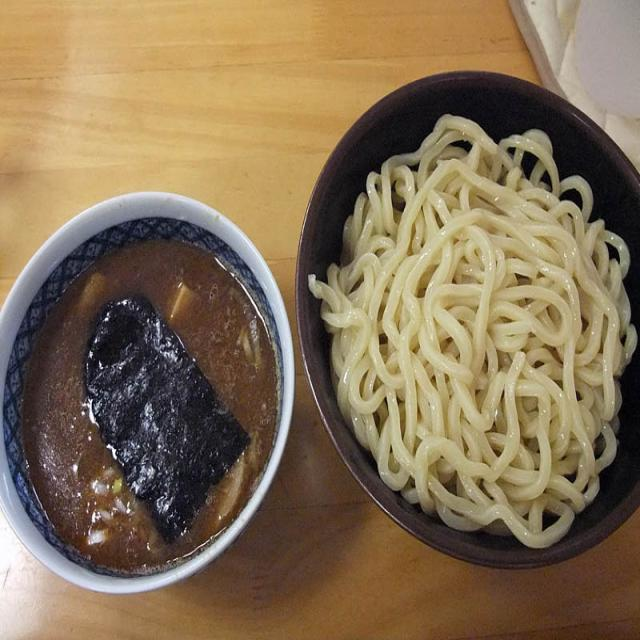面条主食: (11, 121, 626, 593)
